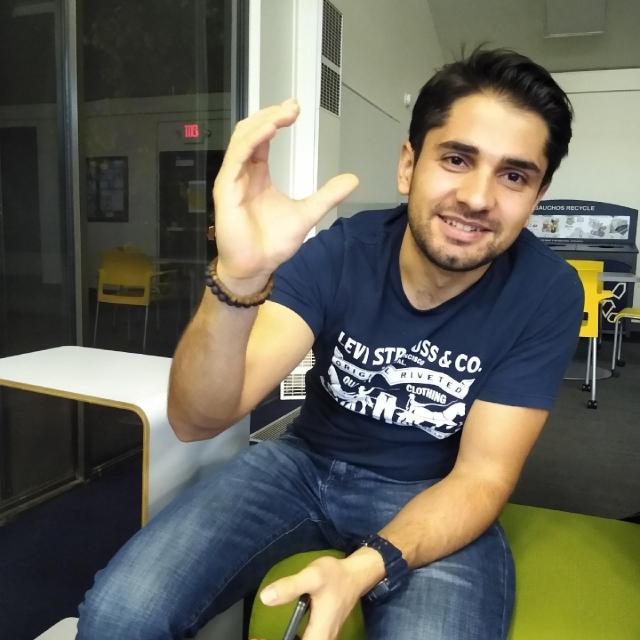C: (155, 88, 365, 306)
